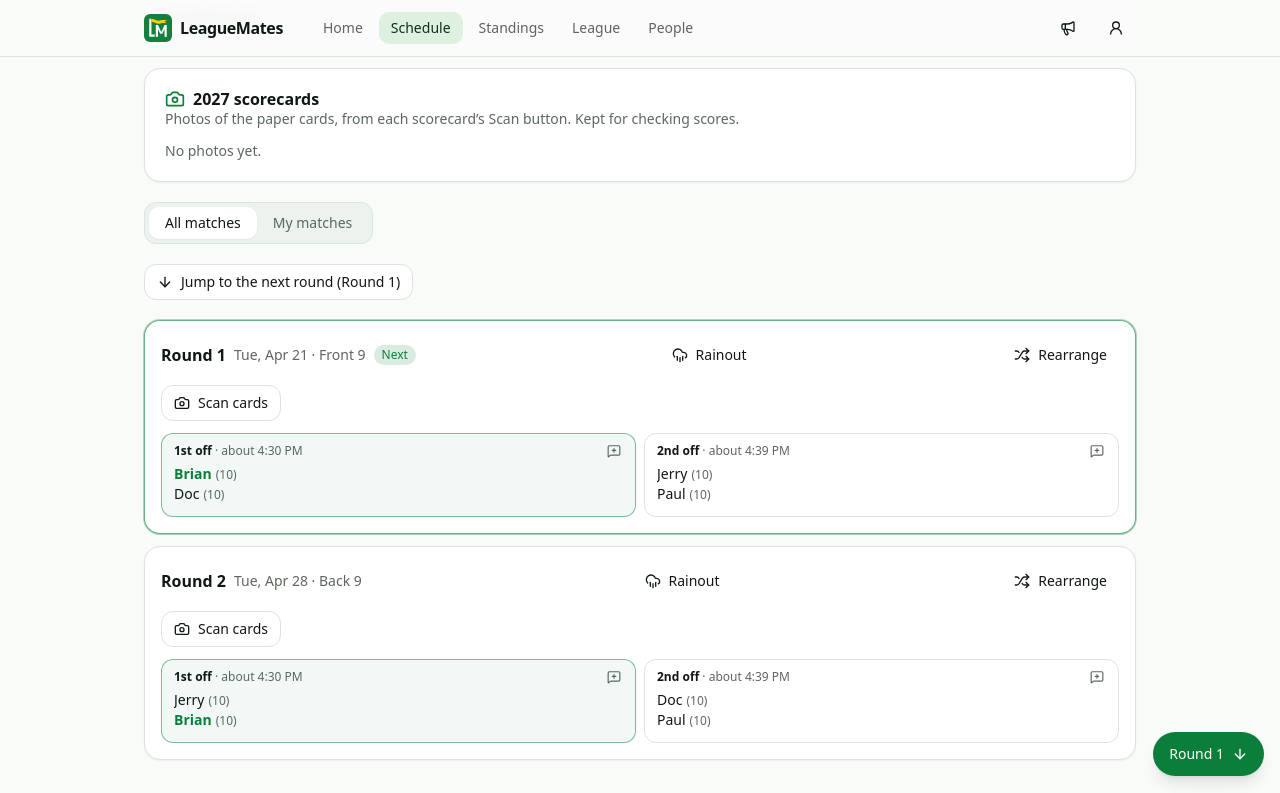
season tools › admins skip a rained-out round from the Rainout menu, and can delete the season
The width and height of the screenshot is (1280, 793).
(page scrolled)
Click the button "Rainout" in the row of "Back 9": x=682, y=581 [632,563,732,599]
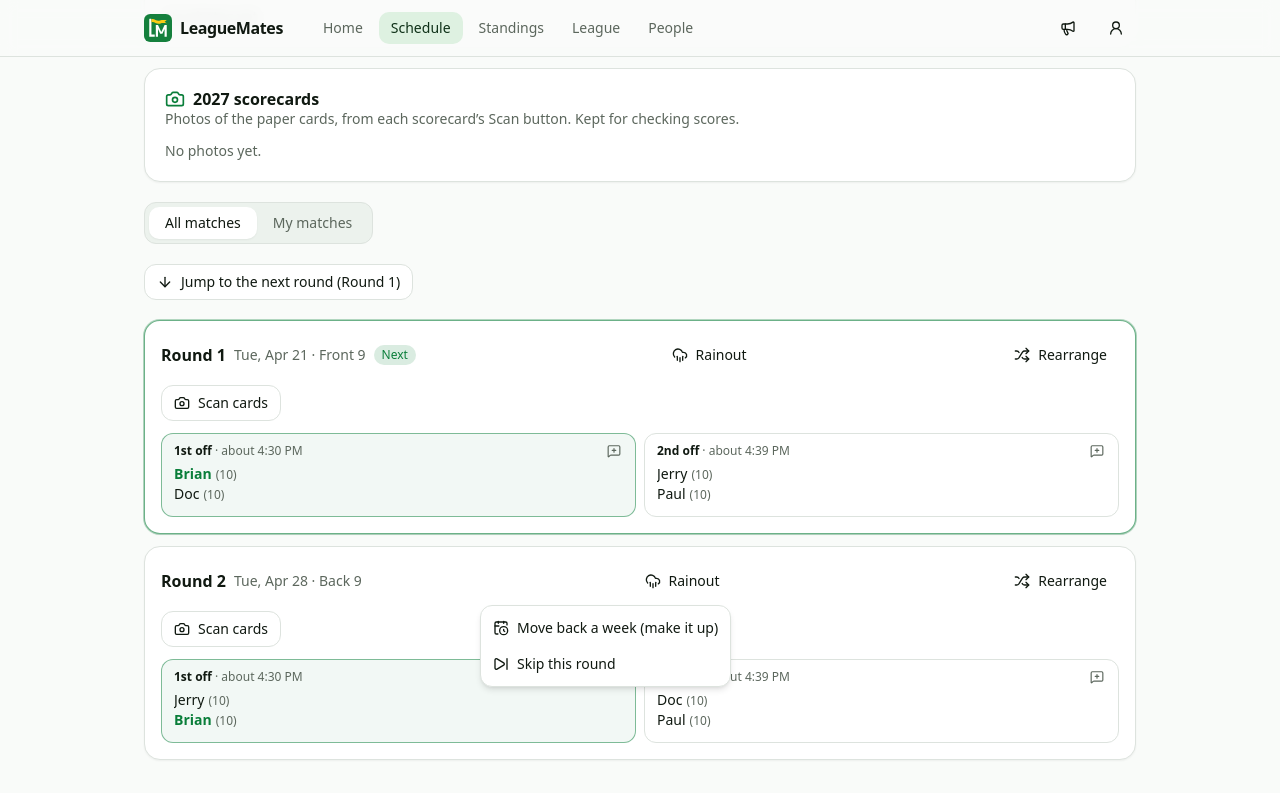
Click the menu item "Skip this round": x=554, y=664 [493,654,616,673]
(page scrolled)
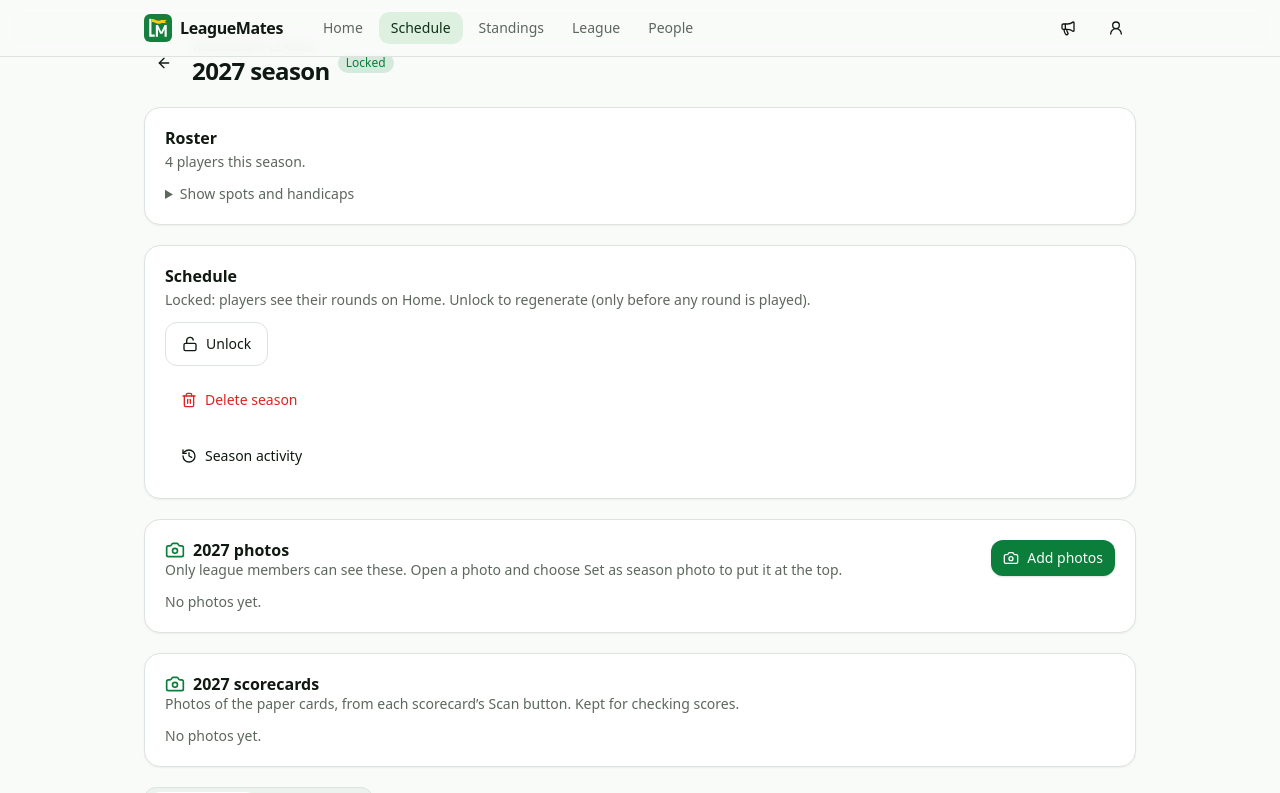
Click the button "Delete season": x=239, y=400 [165,378,314,422]
(page scrolled)
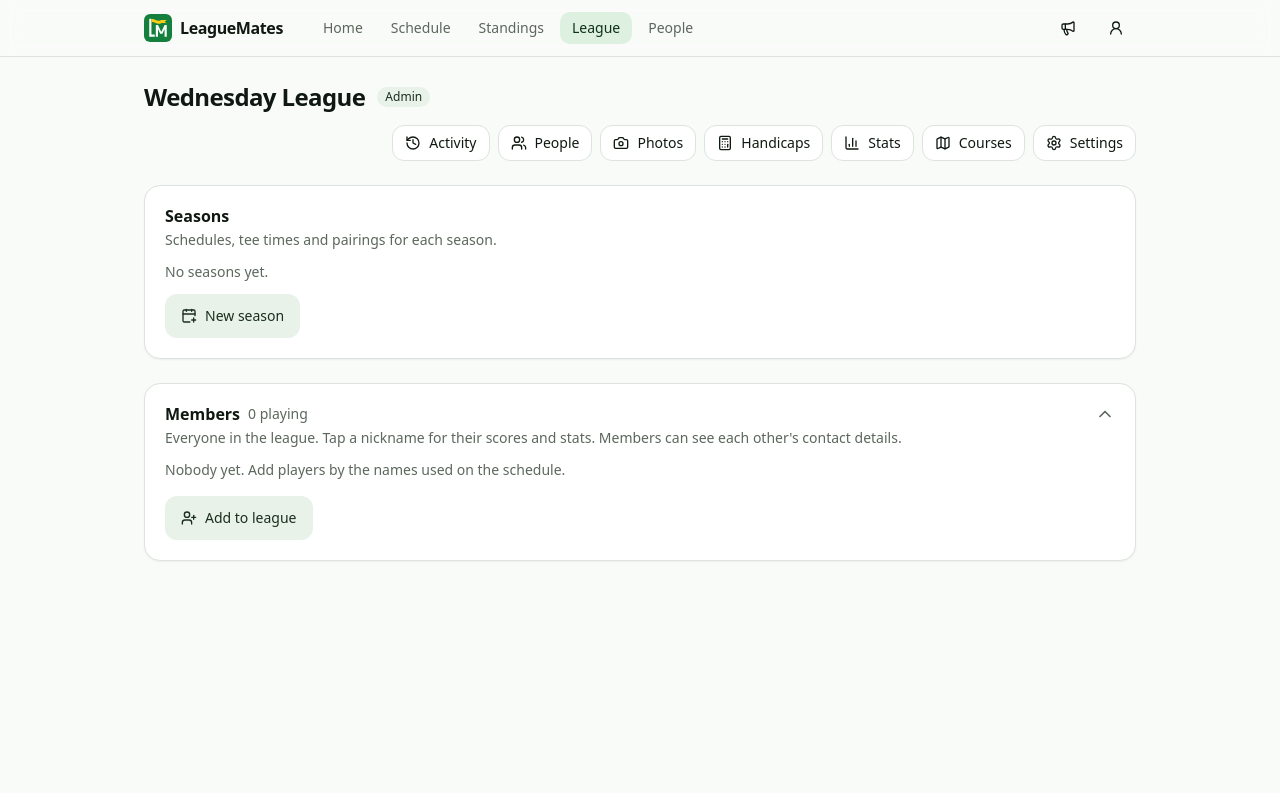
Expected: the heading "Seasons" is shown, [165,205,229,227]
